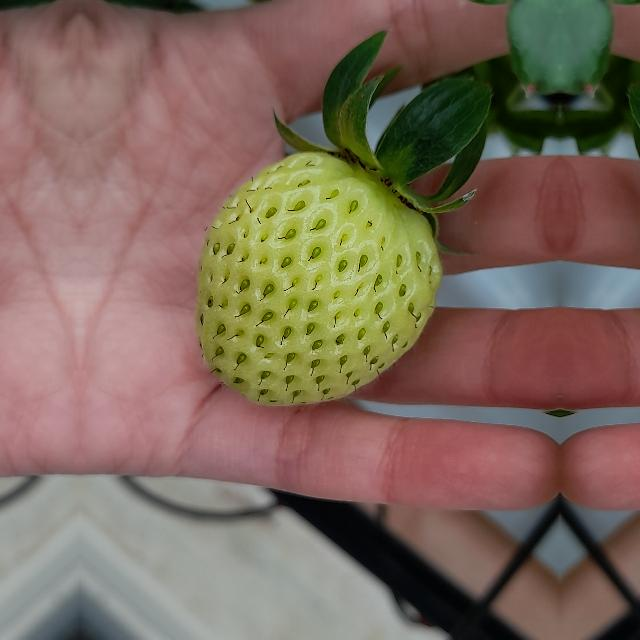Health_25: (195, 152, 442, 406)
